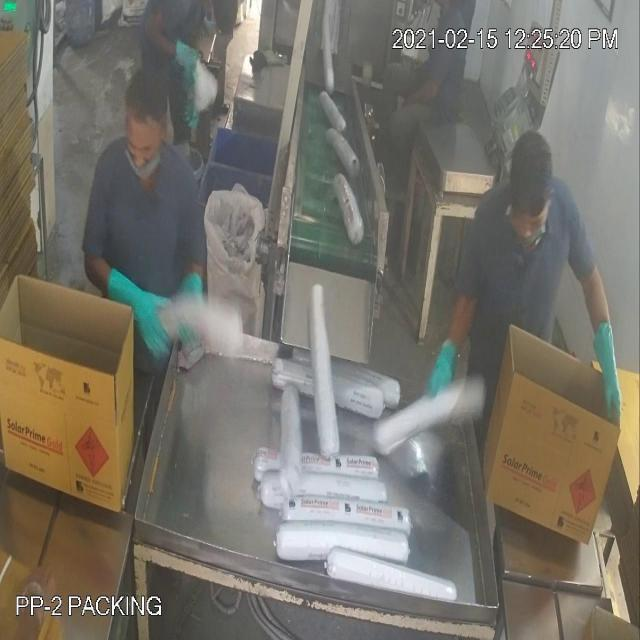Gloves: (35, 48, 609, 597)
